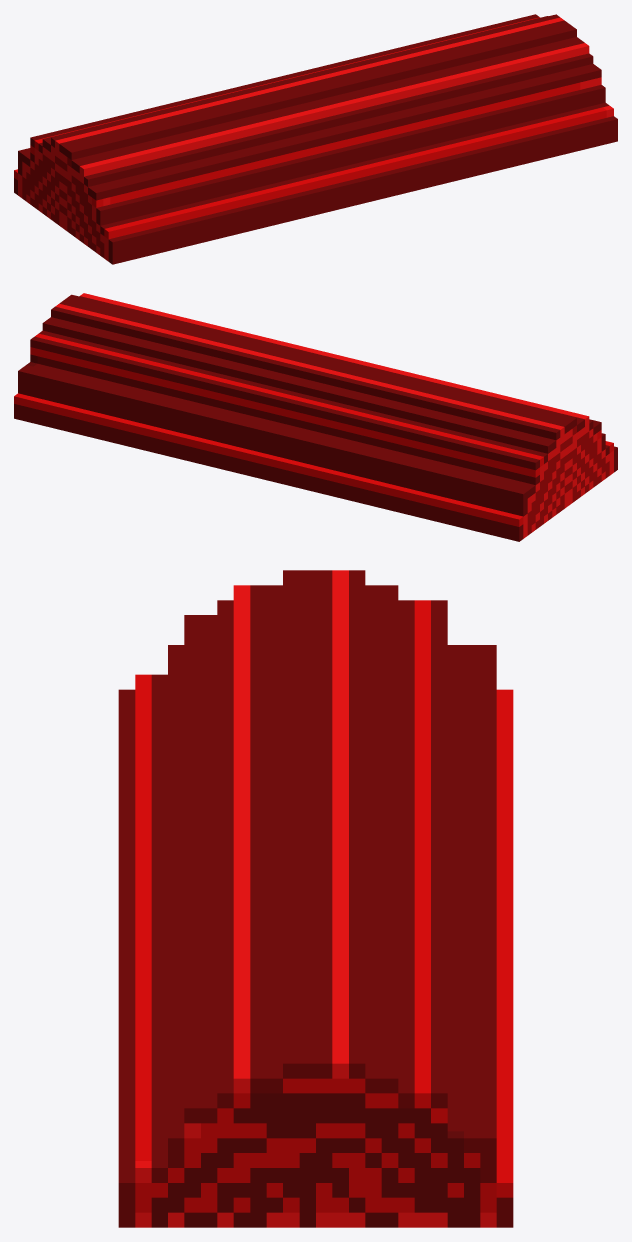
Rendered from BREVNO FULL.obj.
3 renders of one model, top to bottom at view 1: azimuth 30°, elevation 25°; view 2: azimuth 150°, elevation 25°; view 3: azimuth 270°, elevation 25°, orthographic. The views are drawn at different scales.
Bounding box in the file's own units: 71 × 11 × 24.
1 material, 1 textured.
